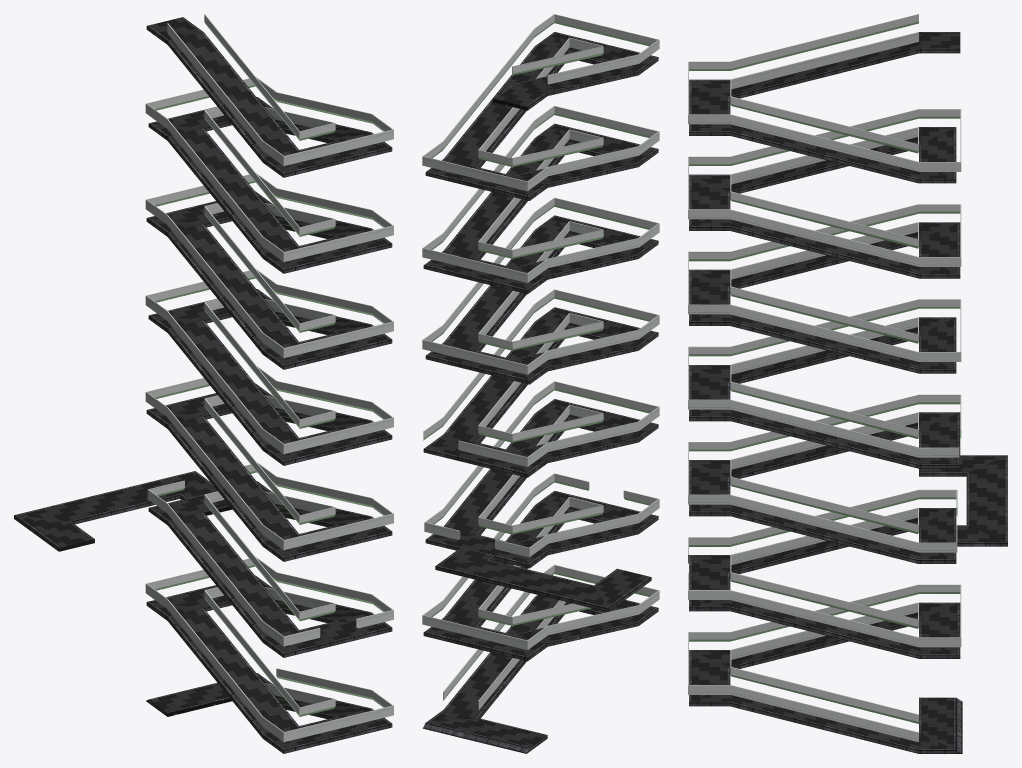
The model's file is Exhibit_Str_Stairs_3_Art.fbx.
3 views of the same model, side by side, from view 1: azimuth 30°, elevation 25°; view 2: azimuth 150°, elevation 25°; view 3: azimuth 270°, elevation 25° (orthographic). The views are drawn at different scales.
Parts seen in each view (by area): view 1: Exhibit_Str_Stairs_3, Exhibit_Str_Stairs_3_Railing; view 2: Exhibit_Str_Stairs_3, Exhibit_Str_Stairs_3_Railing; view 3: Exhibit_Str_Stairs_3, Exhibit_Str_Stairs_3_Railing.
Boxes of the visible parts, x1,y1,x2,y2 form: Exhibit_Str_Stairs_3: (14,17,392,753); Exhibit_Str_Stairs_3_Railing: (145,14,393,741); Exhibit_Str_Stairs_3: (423,32,658,753); Exhibit_Str_Stairs_3_Railing: (422,14,659,709); Exhibit_Str_Stairs_3: (689,32,1007,753); Exhibit_Str_Stairs_3_Railing: (688,14,961,742).
Size of what is drawn, in the model's own units: 1209 by 3672 by 1549.
2 materials, 2 textured.
